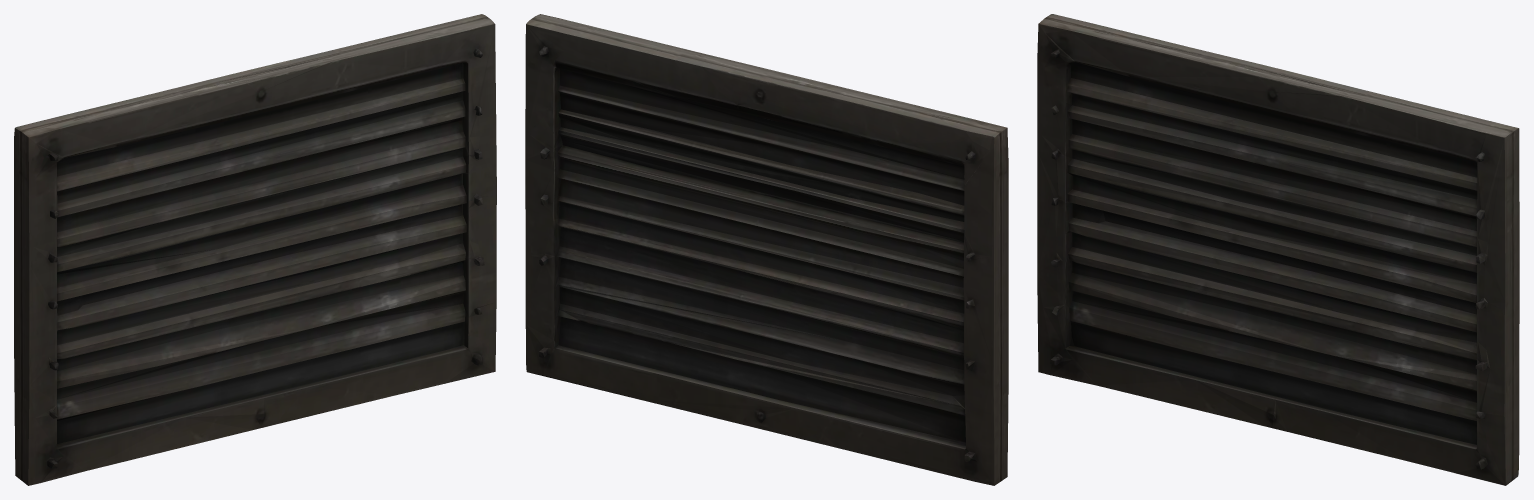
File: vent-wall.glb
3 renders of one model, left to right at view 1: azimuth 30°, elevation 25°; view 2: azimuth 150°, elevation 25°; view 3: azimuth 330°, elevation 25°, orthographic.
Parts seen in each view (by area): view 1: geometry_0; view 2: geometry_0; view 3: geometry_0.
Part boxes in pixels (<box>): geometry_0: <box>14,14,496,485</box>; geometry_0: <box>525,14,1008,485</box>; geometry_0: <box>1037,14,1519,485</box>.
Bounding box in the file's own units: 0.9987 × 0.7128 × 0.0971.
1 material, 1 textured.
